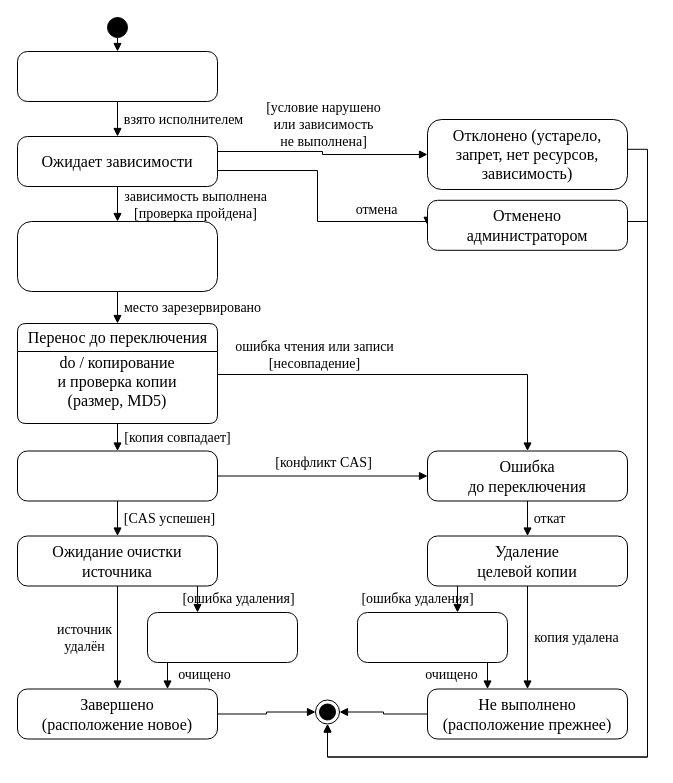
Image size: 673x783. Some labels were removed from this diagram. The shapes that lost their labels are listed below. From the top down, each one's box as (x1, y1, x2, y2) in pixels, then its label:
(16, 50, 218, 102): Подтверждено
(16, 220, 218, 292): Проверено (версия, поколение, ресурсы, запреты, бюджет)
(16, 450, 218, 501): Переключение расположения (CAS)
(146, 612, 298, 662): Требуется очистка источника
(356, 612, 508, 662): Требуется очистка копии
